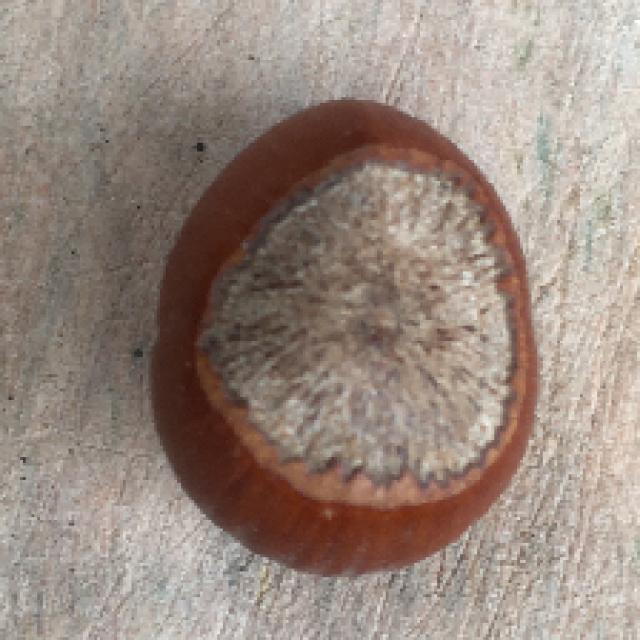qualityHazelnut: (136, 97, 544, 582)
